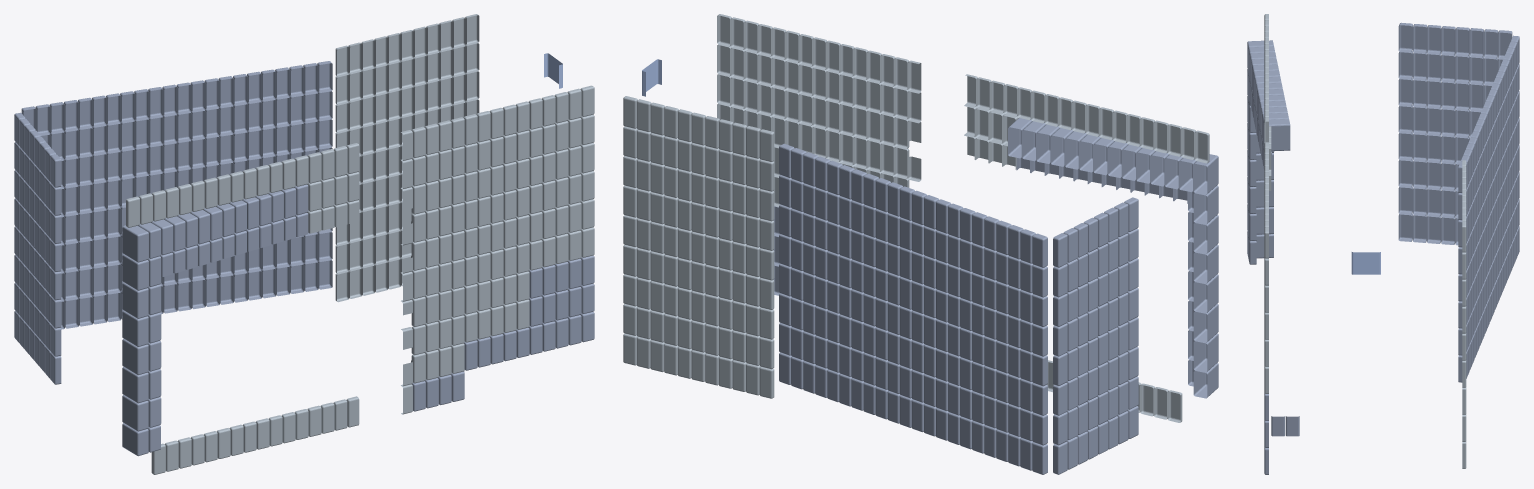
The model's file is aiuplitka2.glb.
3 renders of one model, left to right at view 1: azimuth 30°, elevation 25°; view 2: azimuth 150°, elevation 25°; view 3: azimuth 270°, elevation 25°, orthographic. The views are drawn at different scales.
Parts seen in each view (by area): view 1: Cube.490, Cube.525, Cube.480, Cube.527, Cube.529, Cube.493, Cube.483, Cube.495; view 2: Cube.490, Cube.480, Cube.525, Cube.529, Cube.527, Cube.483, Cube.493, Cube.495; view 3: Cube.470, Cube.079, Cube.493, Cube.777, Cube.771, Cube.772, Cube.760, Cube.775, Cube.758, Cube.483, Cube.720, Cube.731 (+37 smaller).
Part boxes in pixels (x1=…): Cube.490: x1=122, y1=225, x2=148, y2=262; Cube.525: x1=122, y1=282, x2=148, y2=318; Cube.480: x1=122, y1=254, x2=148, y2=290; Cube.527: x1=122, y1=310, x2=148, y2=346; Cube.529: x1=122, y1=338, x2=148, y2=374; Cube.493: x1=122, y1=395, x2=148, y2=431; Cube.483: x1=122, y1=366, x2=148, y2=403; Cube.495: x1=122, y1=423, x2=148, y2=456; Cube.490: x1=1193, y1=154, x2=1218, y2=194; Cube.480: x1=1193, y1=185, x2=1218, y2=224; Cube.525: x1=1193, y1=215, x2=1218, y2=253; Cube.529: x1=1193, y1=274, x2=1218, y2=313; Cube.527: x1=1193, y1=244, x2=1218, y2=283; Cube.483: x1=1193, y1=303, x2=1218, y2=342; Cube.493: x1=1193, y1=333, x2=1218, y2=372; Cube.495: x1=1193, y1=363, x2=1218, y2=398; Cube.470: x1=1263, y1=119, x2=1290, y2=151; Cube.079: x1=1351, y1=252, x2=1380, y2=274; Cube.493: x1=1247, y1=204, x2=1273, y2=234; Cube.777: x1=1483, y1=29, x2=1498, y2=58; Cube.771: x1=1441, y1=26, x2=1455, y2=55; Cube.772: x1=1455, y1=27, x2=1469, y2=56; Cube.760: x1=1427, y1=25, x2=1441, y2=54; Cube.775: x1=1469, y1=28, x2=1483, y2=57; Cube.758: x1=1398, y1=22, x2=1412, y2=52; Cube.483: x1=1247, y1=177, x2=1273, y2=207; Cube.720: x1=1427, y1=134, x2=1441, y2=162; Cube.731: x1=1441, y1=81, x2=1455, y2=109.
Bounding box in the file's own units: 7.17 × 3.98 × 3.64.
